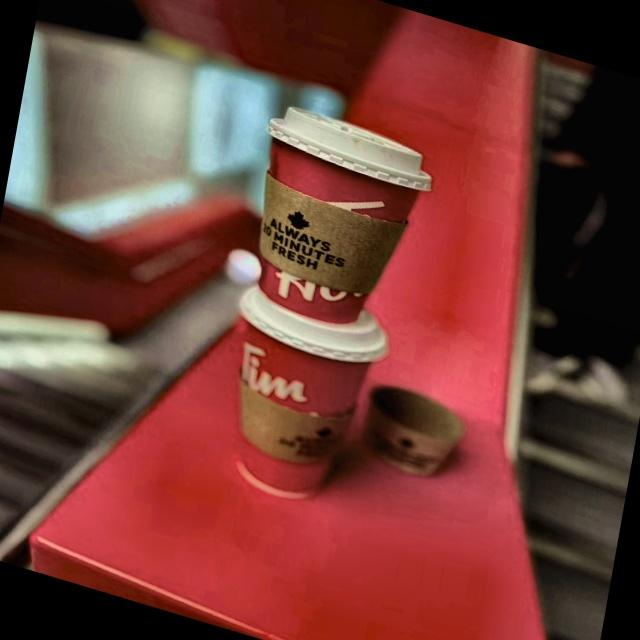Timmies: (234, 91, 440, 351), (203, 274, 396, 526)
